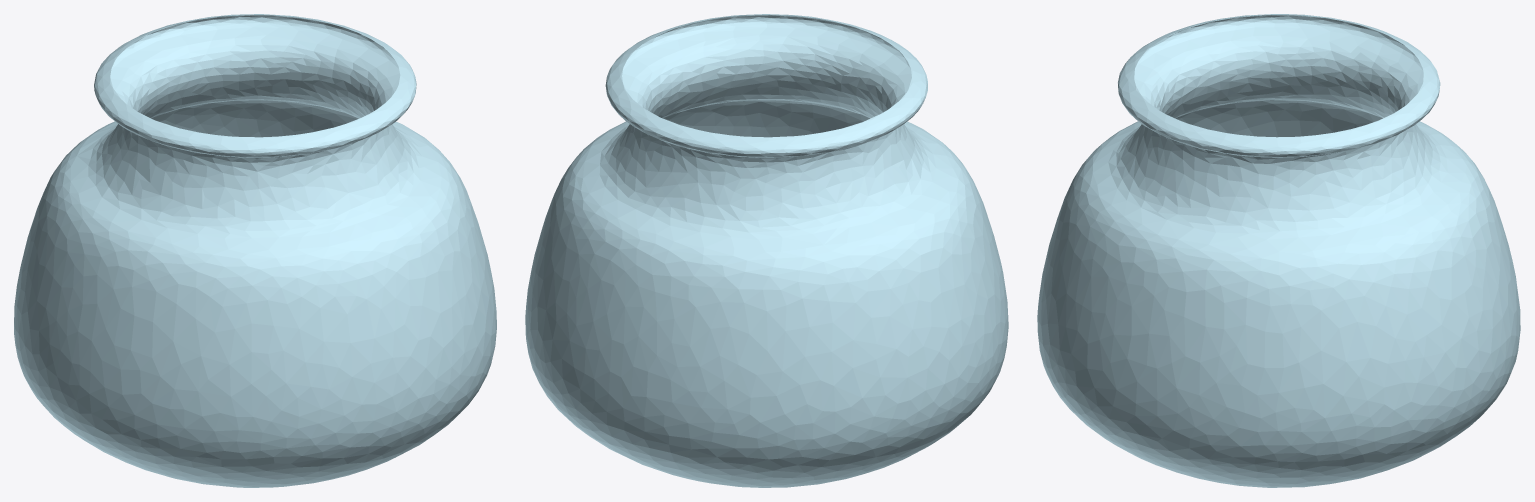
Rendered from daig.fbx.
The picture shows the model from 3 angles, left to right: view 1: azimuth 30°, elevation 25°; view 2: azimuth 150°, elevation 25°; view 3: azimuth 270°, elevation 25°; orthographic projection.
Parts seen in each view (by area): view 1: Circle; view 2: Circle; view 3: Circle.
Boxes of the visible parts, x1,y1,x2,y2 form: Circle: (14,14,496,487); Circle: (525,14,1008,487); Circle: (1037,14,1520,487).
Bounding box in the file's own units: 402 × 343 × 402.
